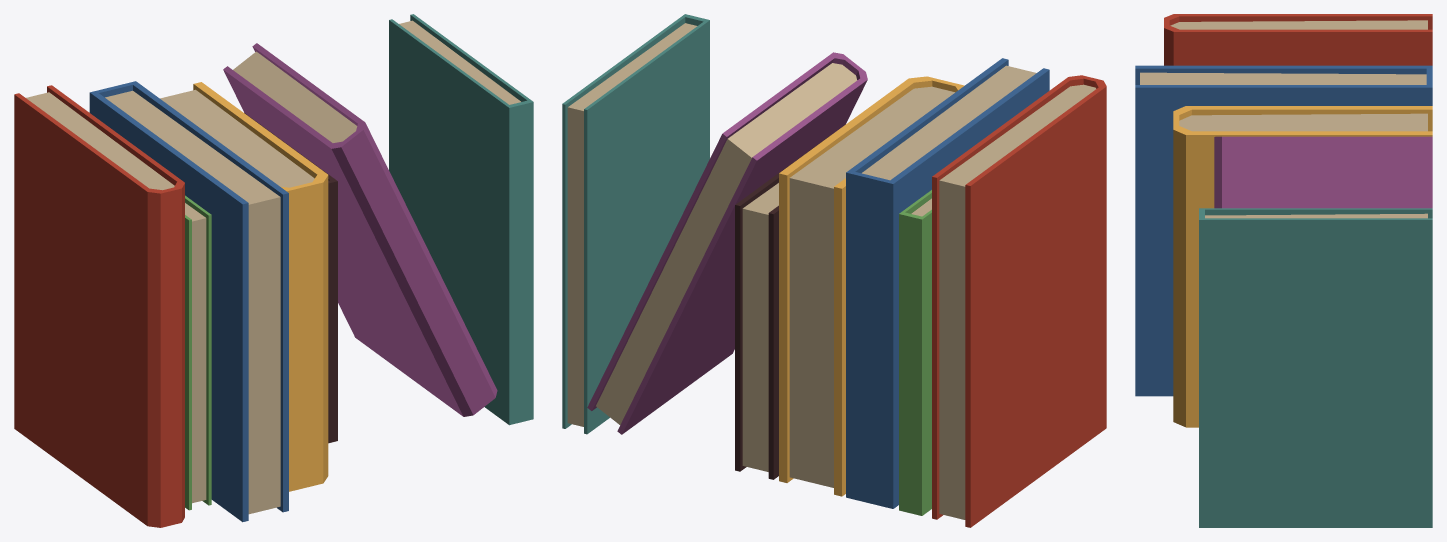
The model's file is Int_LibraryBook01.fbx.
3 renders of one model, left to right at view 1: azimuth 30°, elevation 25°; view 2: azimuth 150°, elevation 25°; view 3: azimuth 270°, elevation 25°, orthographic. The views are drawn at different scales.
Parts seen in each view (by area): view 1: Int_LibraryBook01; view 2: Int_LibraryBook01; view 3: Int_LibraryBook01.
Part boxes in pixels (left/top/right/bottom): Int_LibraryBook01: left=14, top=14, right=533, bottom=527; Int_LibraryBook01: left=562, top=14, right=1106, bottom=527; Int_LibraryBook01: left=1135, top=14, right=1432, bottom=527.
Size of what is drawn, in the model's own units: 44.43 by 29.48 by 35.55.
